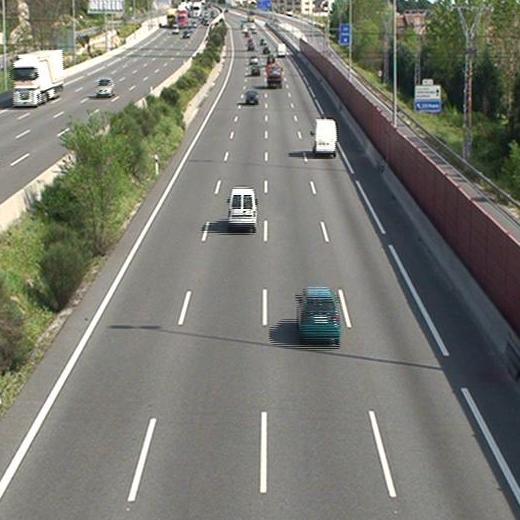car: (296, 288, 339, 342), (245, 91, 259, 105), (250, 65, 261, 76), (248, 54, 259, 63), (266, 55, 275, 64)
small-truck: (265, 64, 282, 86)
van: (228, 187, 257, 230), (313, 119, 337, 156), (277, 42, 286, 57)
